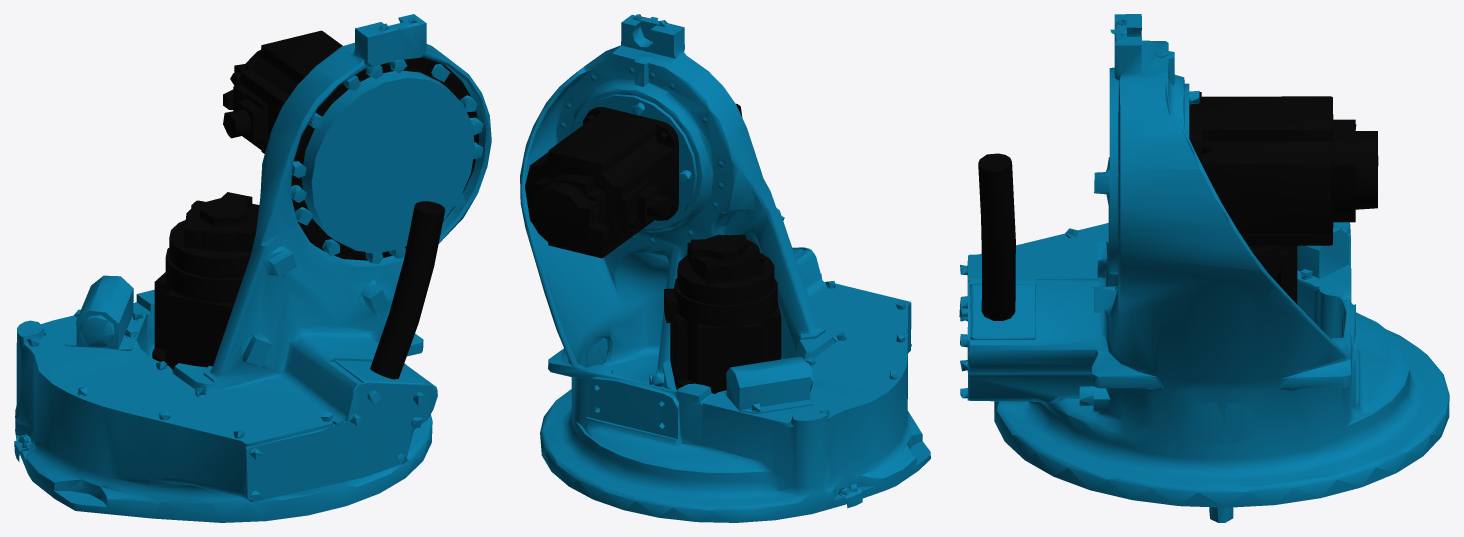
3 renders of one model, left to right at view 1: azimuth 30°, elevation 25°; view 2: azimuth 150°, elevation 25°; view 3: azimuth 270°, elevation 25°, orthographic. The views are drawn at different scales.
Parts seen in each view (by area): view 1: f_1-06vxh25-a0_lk1; view 2: f_1-06vxh25-a0_lk1; view 3: f_1-06vxh25-a0_lk1.
Part boxes in pixels (box(x1,y1,x2,y2)): f_1-06vxh25-a0_lk1: box(14, 14, 491, 522); f_1-06vxh25-a0_lk1: box(520, 14, 930, 522); f_1-06vxh25-a0_lk1: box(959, 14, 1449, 522).
Size of the model in its own units: 0.525 by 0.4917 by 0.5201.
